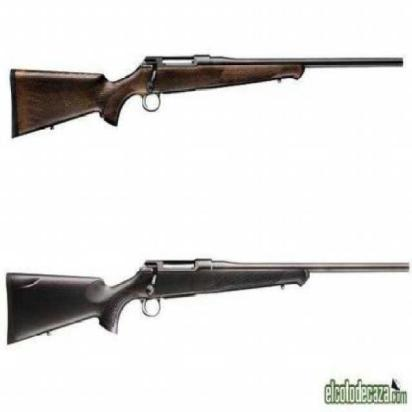Gun: (6, 253, 410, 343), (13, 52, 405, 140)
